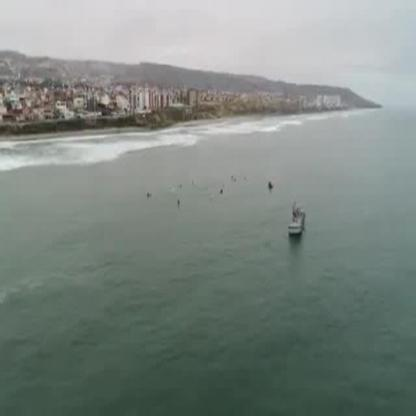Boat: (284, 207, 308, 238)
